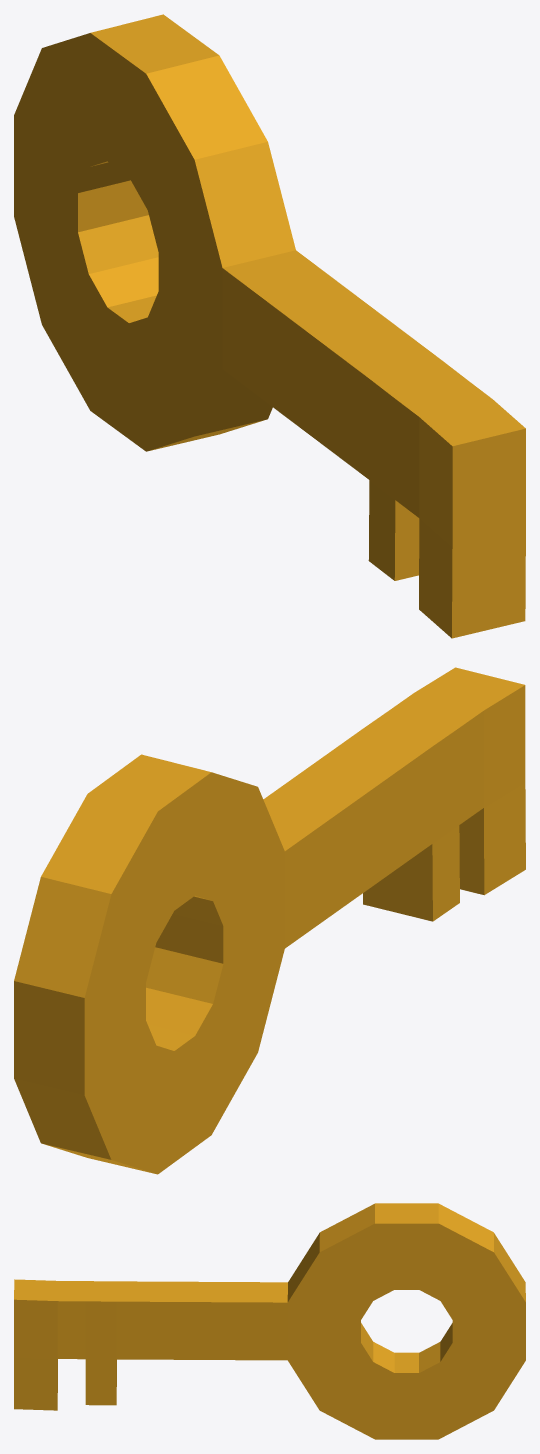
File: key.fbx
3 views of the same model, one above another, from view 1: azimuth 30°, elevation 25°; view 2: azimuth 150°, elevation 25°; view 3: azimuth 270°, elevation 25° (orthographic). The views are drawn at different scales.
Parts seen in each view (by area): view 1: Circle; view 2: Circle; view 3: Circle.
Part boxes in pixels (x1,y1,x2,y2): Circle: (14,14,525,638); Circle: (14,667,525,1174); Circle: (14,1203,525,1439).
Size of the model in its own units: 25.09 by 108 by 233.
